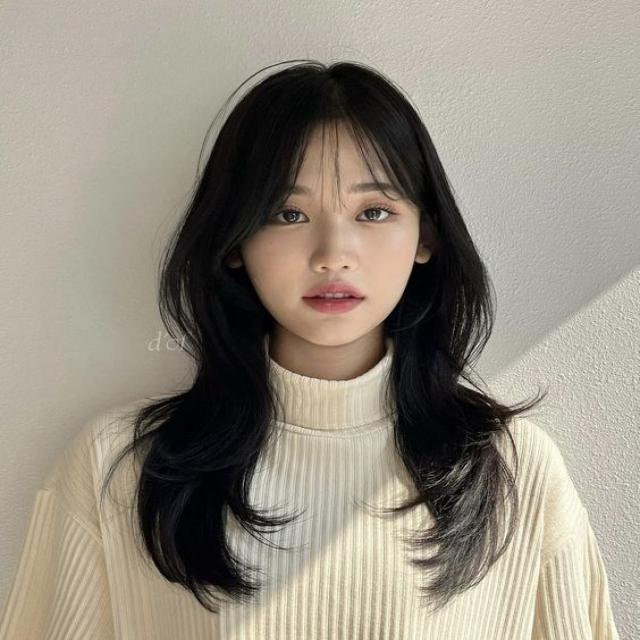Nonhelmet: (183, 59, 471, 365)
